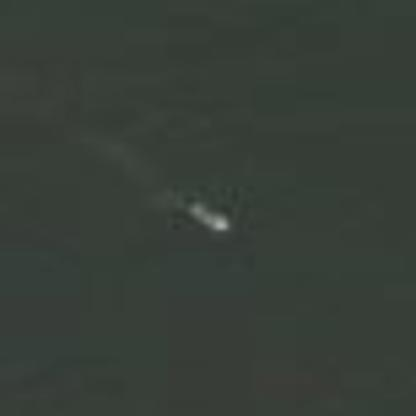ship: (174, 190, 236, 238)
